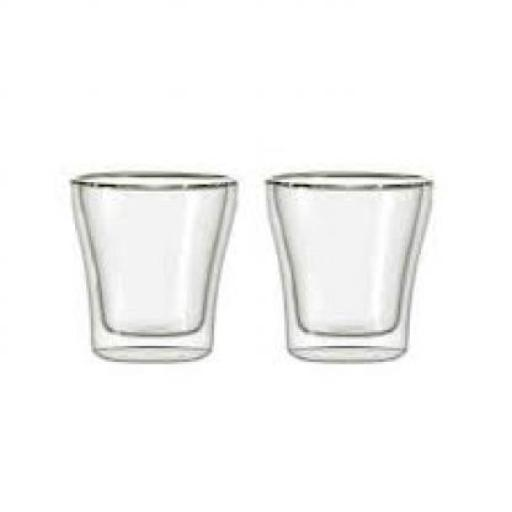glass: (68, 170, 234, 364), (264, 173, 428, 361)
